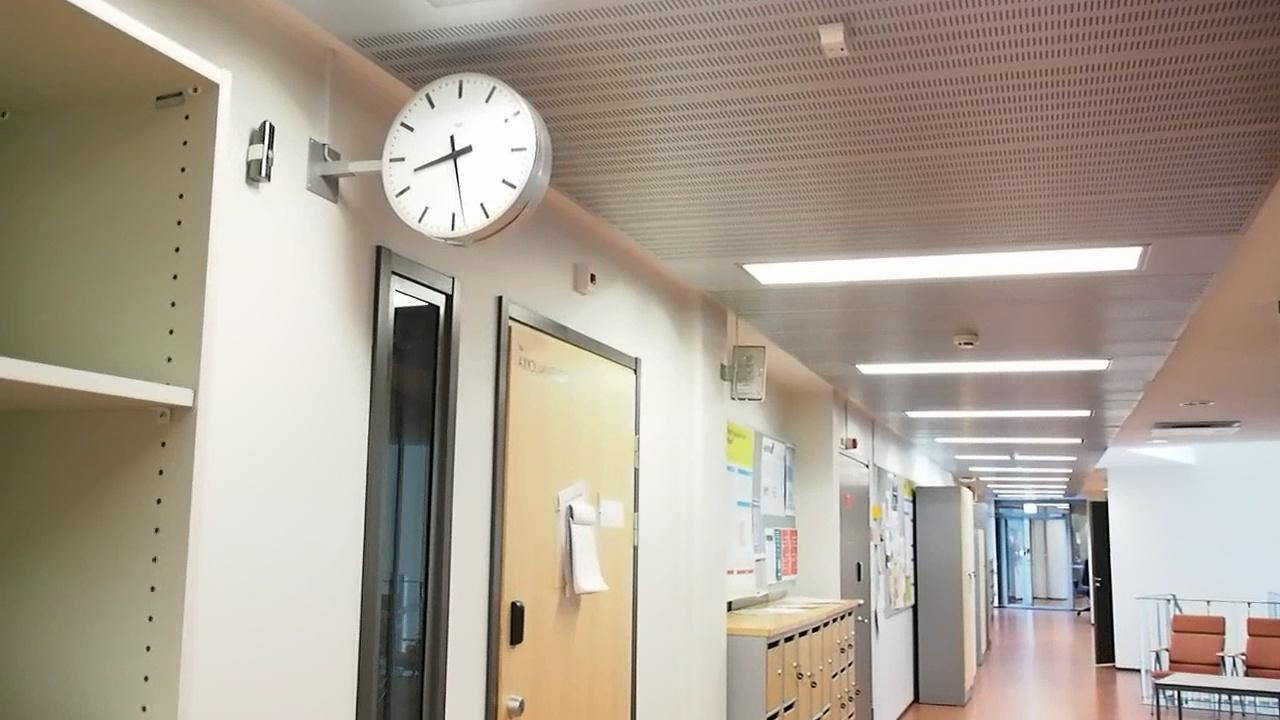clock: (373, 64, 550, 245)
